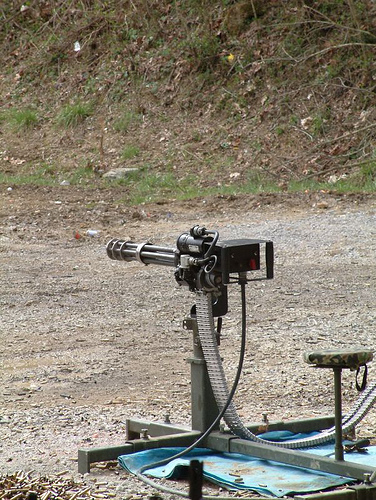rifle: (87, 203, 328, 489)
